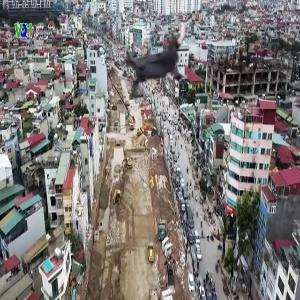drone: (111, 17, 204, 110)
